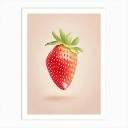strawberry: (45, 32, 79, 90)
